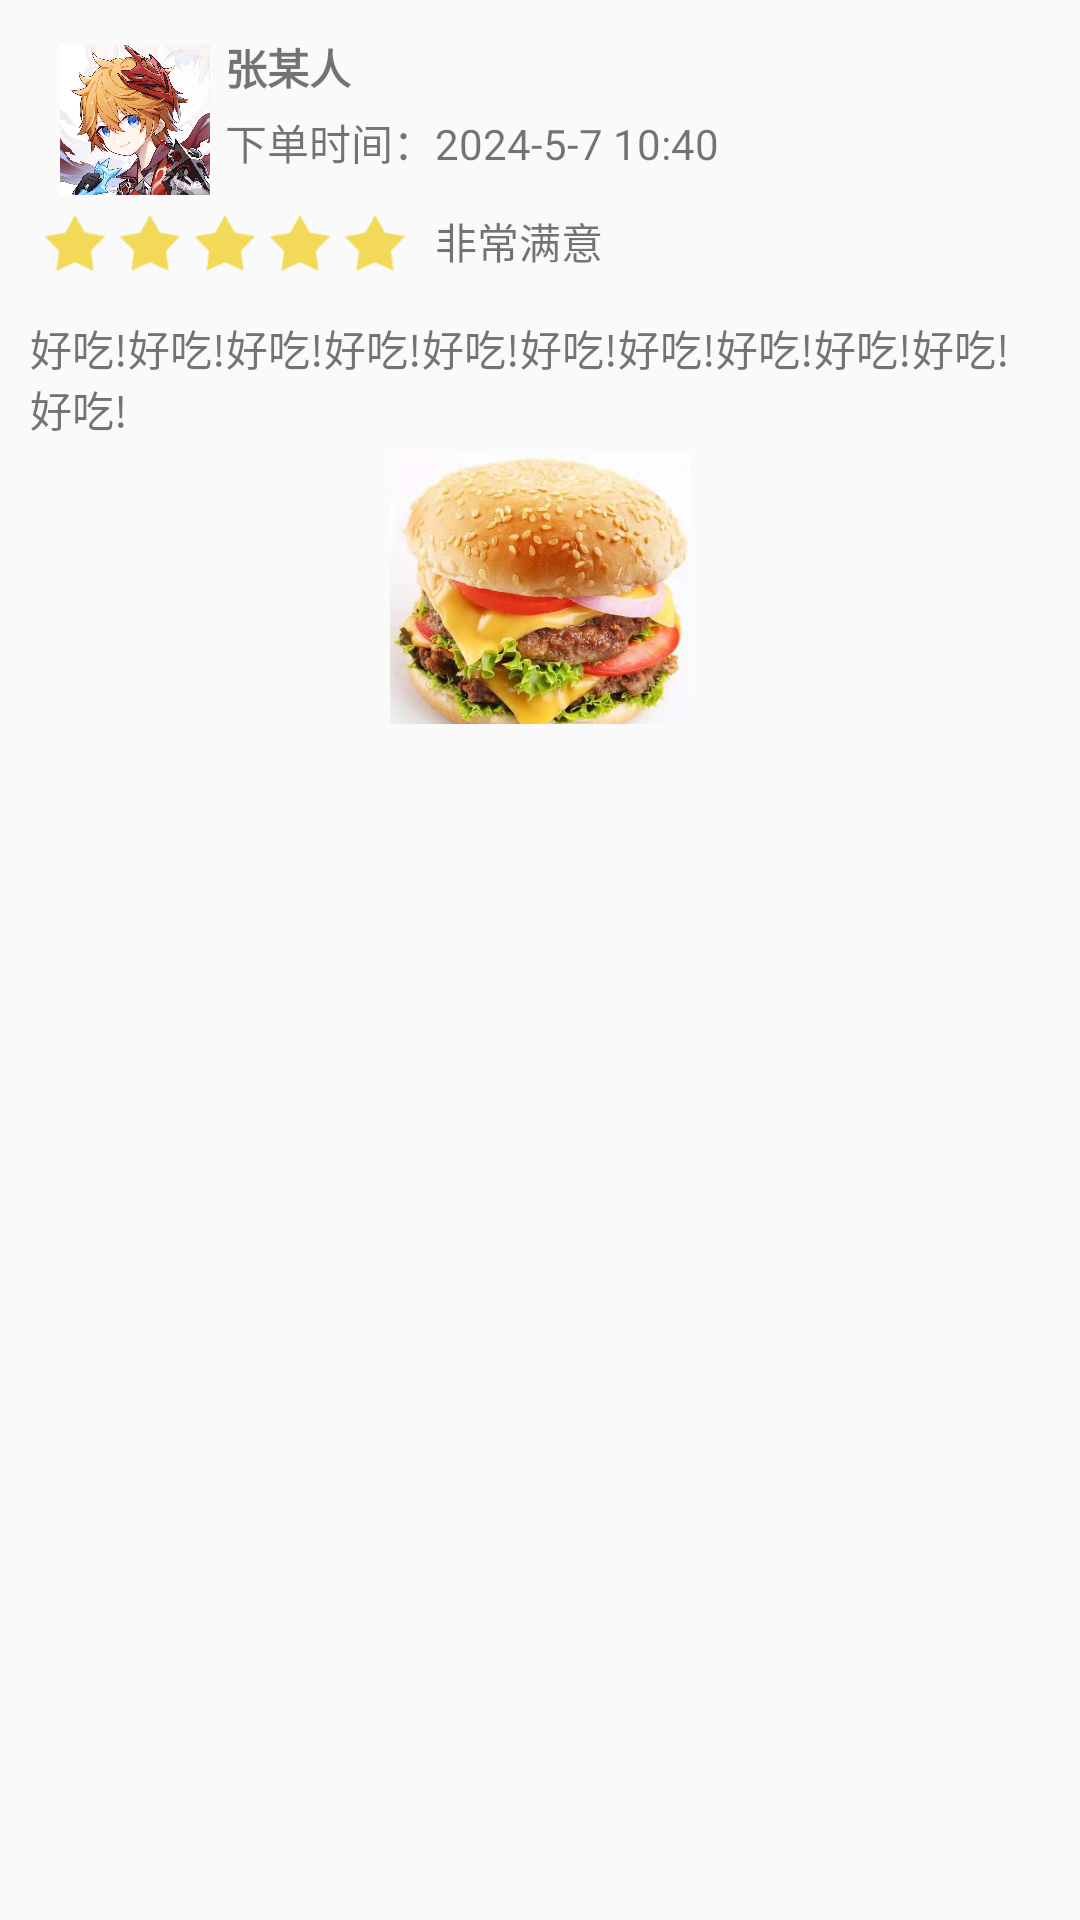

Where icons sit on this 1080×1920 app screen, as (x1, y1, x2, y2):
hanbao: (390, 458, 687, 724)
